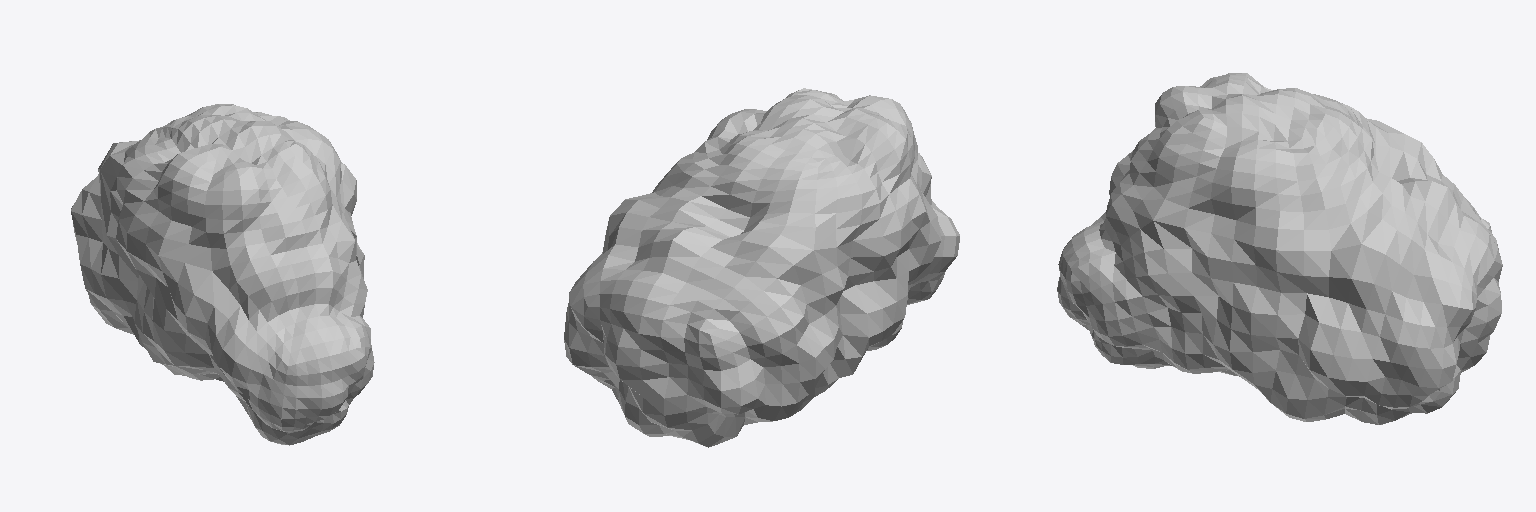
The model's file is cloud2.obj.
3 views of the same model, side by side, from view 1: azimuth 30°, elevation 25°; view 2: azimuth 150°, elevation 25°; view 3: azimuth 270°, elevation 25° (orthographic).
Visible parts, largest first — view 1: Cube.002; view 2: Cube.002; view 3: Cube.002.
Boxes of the visible parts, x1=… form: Cube.002: x1=71, y1=104, x2=374, y2=445; Cube.002: x1=564, y1=88, x2=959, y2=447; Cube.002: x1=1057, y1=73, x2=1502, y2=424.
Bounding box in the file's own units: 4.37 × 4.75 × 6.44.